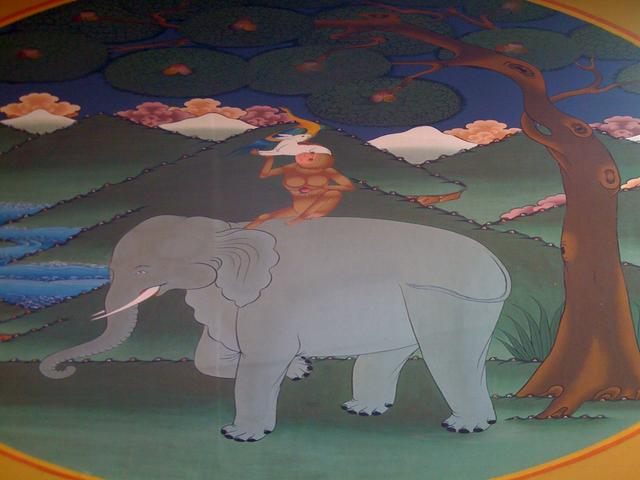elephant: (25, 186, 535, 435)
